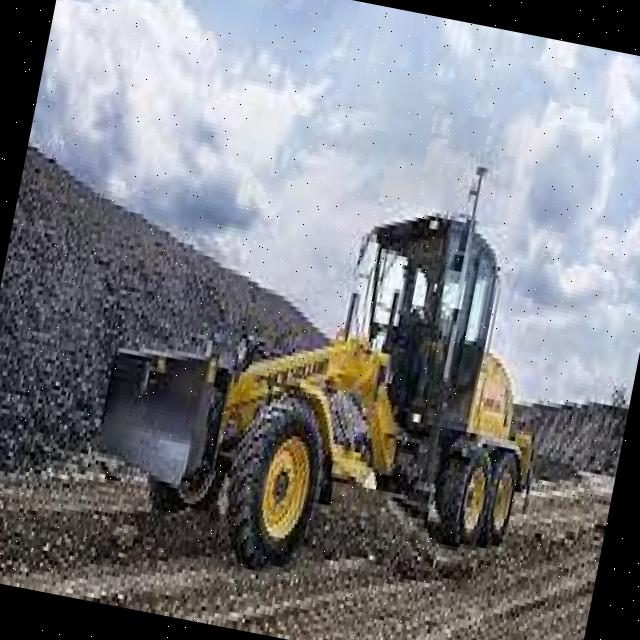Grader: (50, 141, 603, 640)
